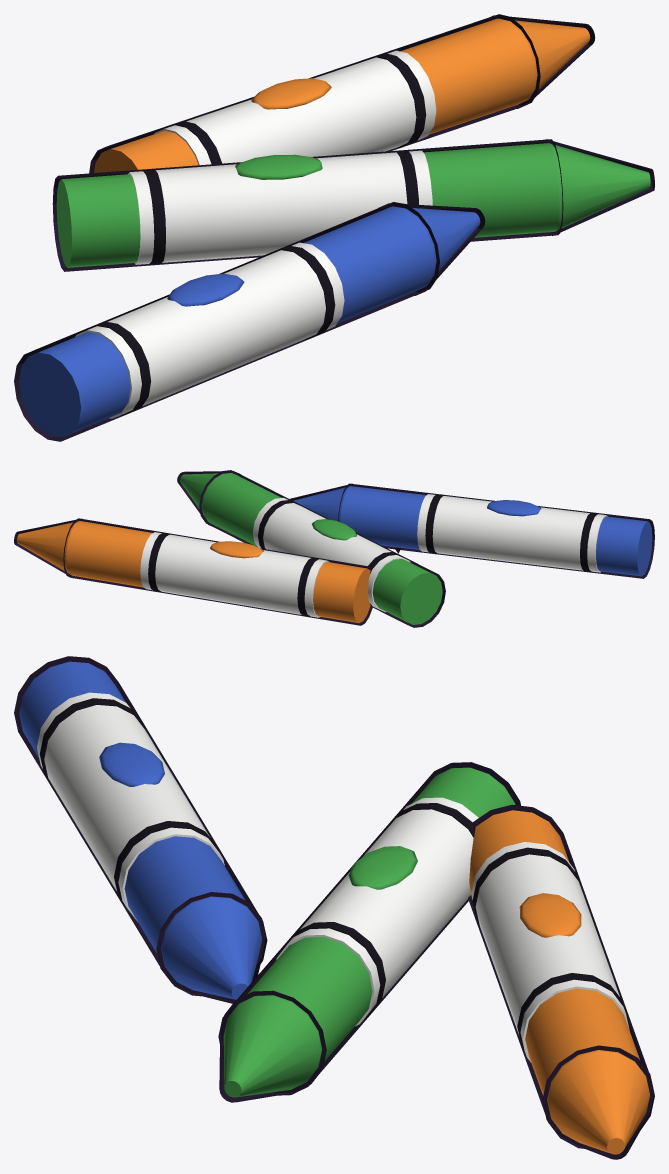
The model's file is Crayons.glb.
3 renders of one model, top to bottom at view 1: azimuth 30°, elevation 25°; view 2: azimuth 150°, elevation 25°; view 3: azimuth 270°, elevation 25°, orthographic. The views are drawn at different scales.
Parts seen in each view (by area): view 1: Crayons, Crayons_Outline; view 2: Crayons, Crayons_Outline; view 3: Crayons, Crayons_Outline.
Boxes of the visible parts, left/top/right/bottom form: Crayons: left=19, top=18, right=650, bottom=437; Crayons_Outline: left=14, top=14, right=654, bottom=441; Crayons: left=17, top=473, right=652, bottom=624; Crayons_Outline: left=14, top=470, right=654, bottom=627; Crayons: left=19, top=661, right=649, bottom=1154; Crayons_Outline: left=14, top=656, right=654, bottom=1159.
Size of the model in its own units: 9.19 by 1 by 5.56.
1 material, 1 textured.
